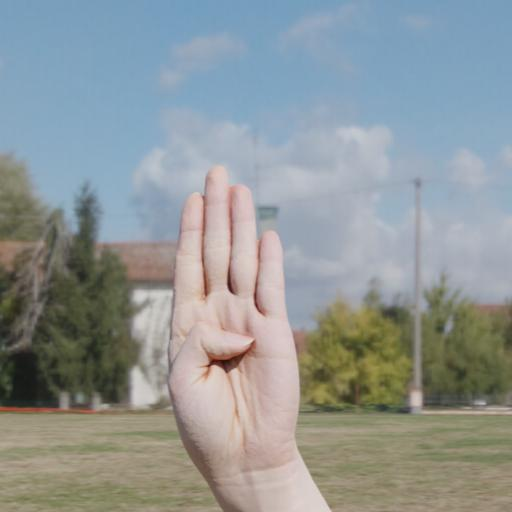B: (163, 160, 306, 458)
